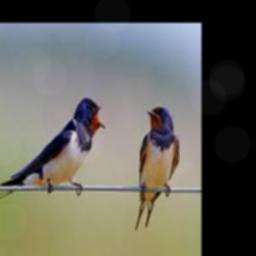Swallow: (0, 97, 108, 207), (136, 104, 179, 230)
